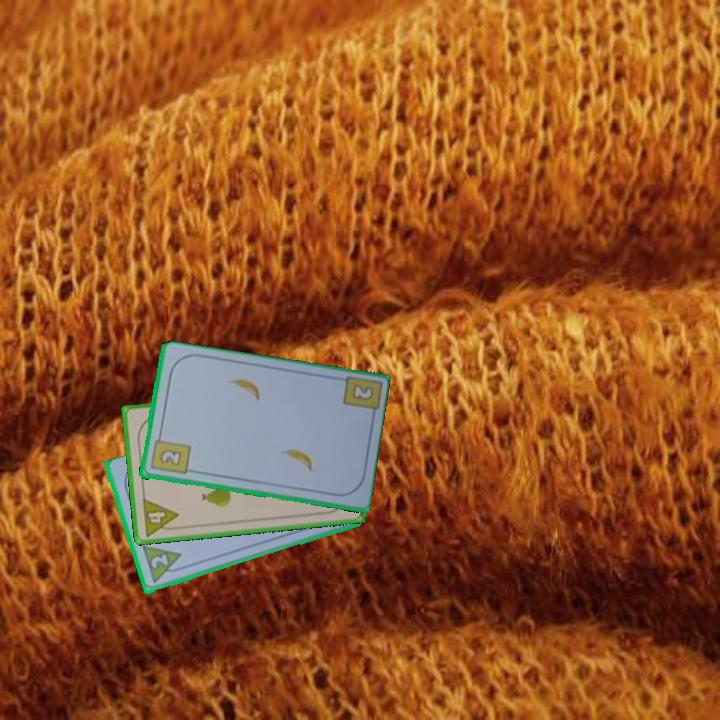2b: (147, 431, 192, 477), (351, 383, 374, 402)
2p: (147, 551, 171, 572)
4p: (139, 495, 182, 539)
